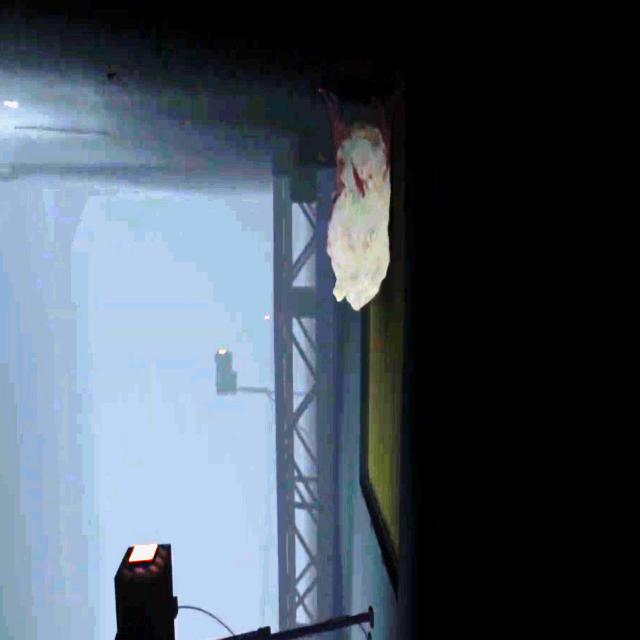blob: (330, 125, 391, 311)
interactible: (112, 545, 176, 640), (214, 347, 238, 401)
structure: (275, 161, 338, 640)
